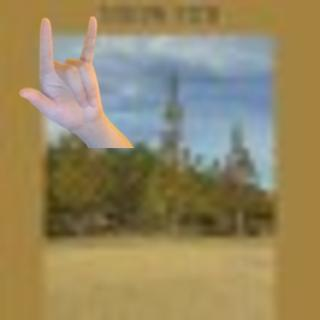ILY: (17, 11, 109, 132)
